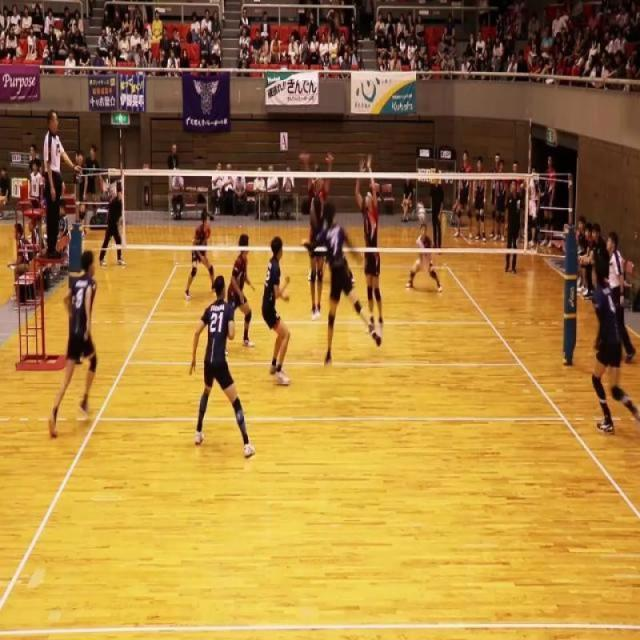volleyball: (416, 202, 427, 224)
